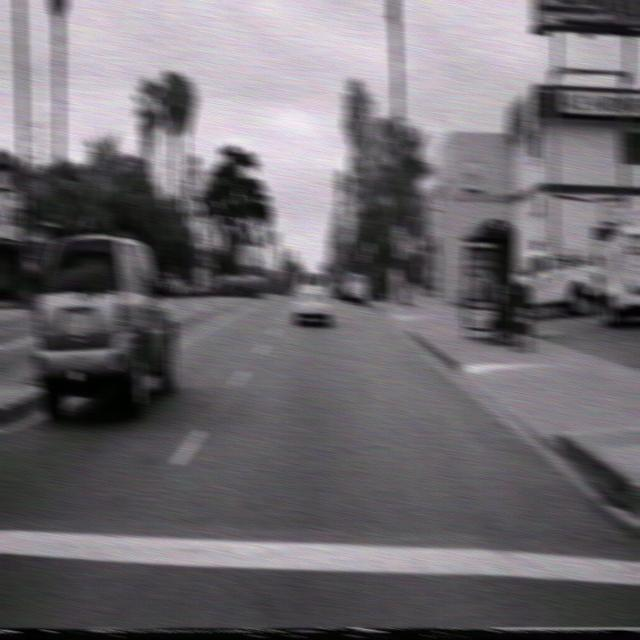speedLimit35: (198, 216, 213, 244), (392, 223, 405, 247)
